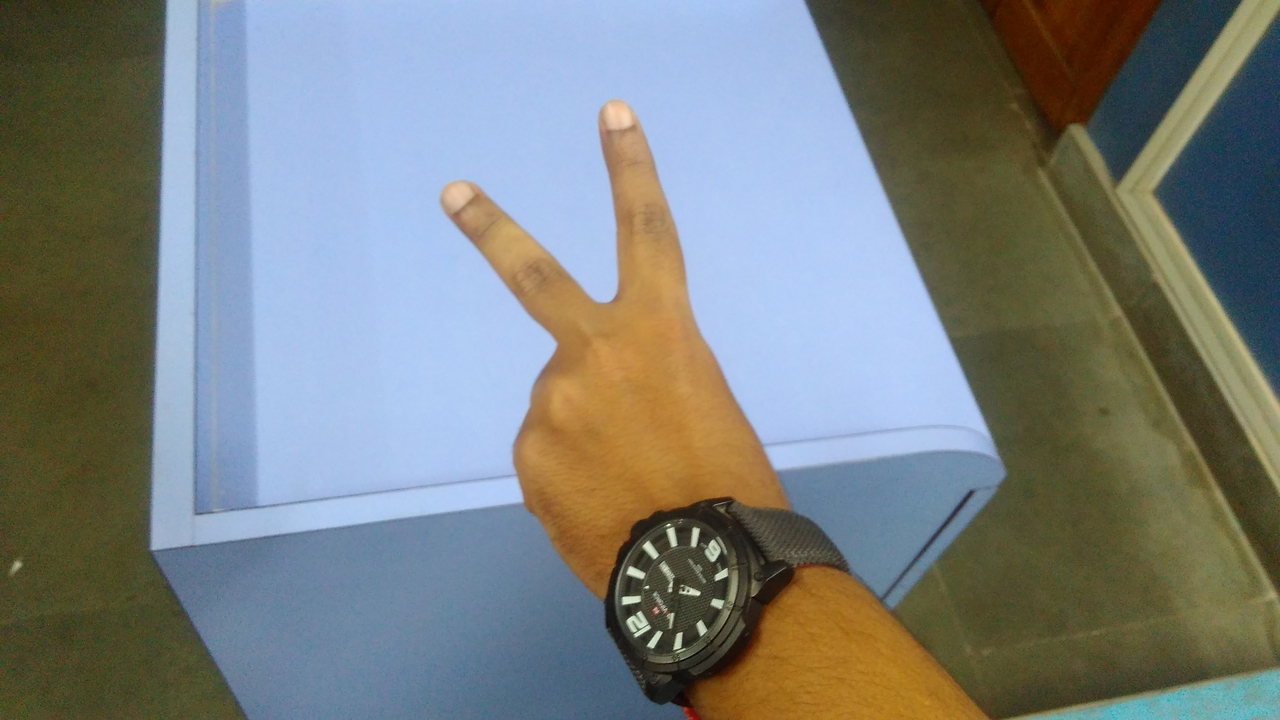fingertip: (424, 170, 498, 224), (588, 92, 652, 142)
